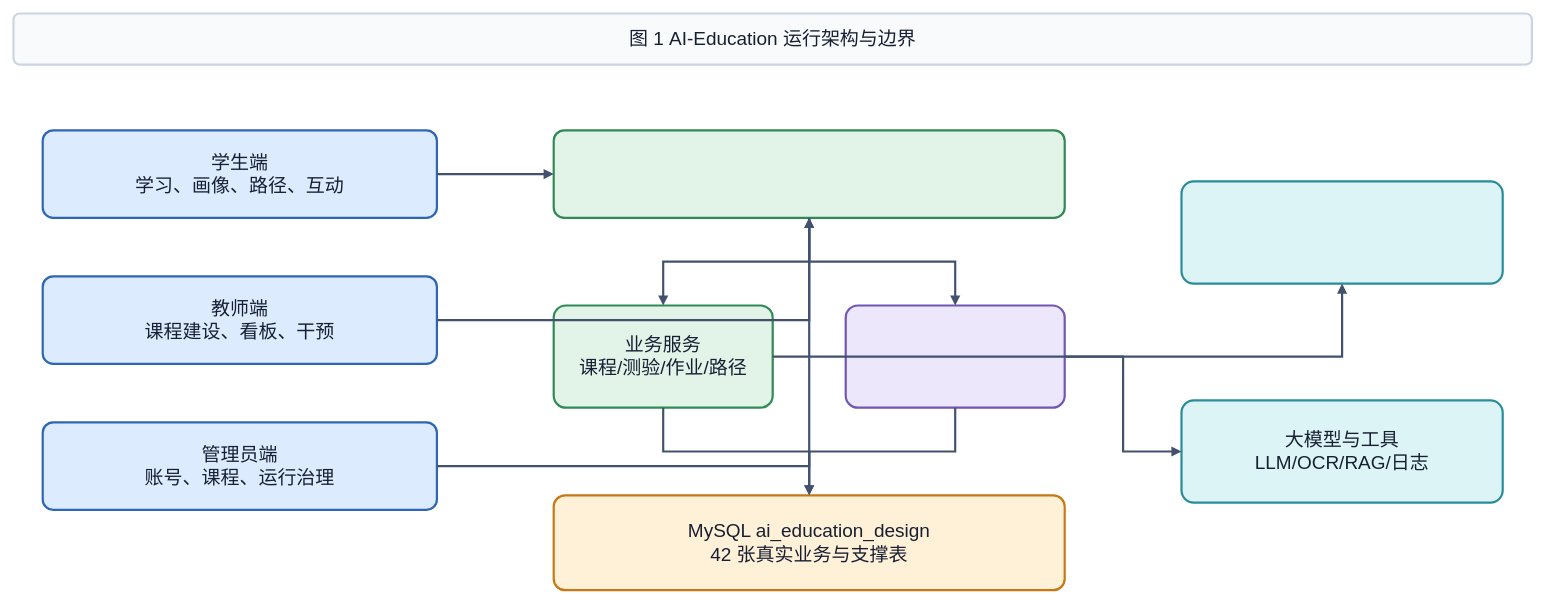
The diagram is 1545 pixels wide and 604 high, and some of its shapes have lost their labels. Here are the shapes that lost their labels. From the top down, the box of each, then its label:
(552, 129, 1065, 219): FastAPI 接口层 164 个 OpenAPI operation
(1180, 180, 1503, 284): 外部资源 B站/YouTube/CSDN/文档
(844, 304, 1065, 408): 智能服务 诊断/5E/行业情报
